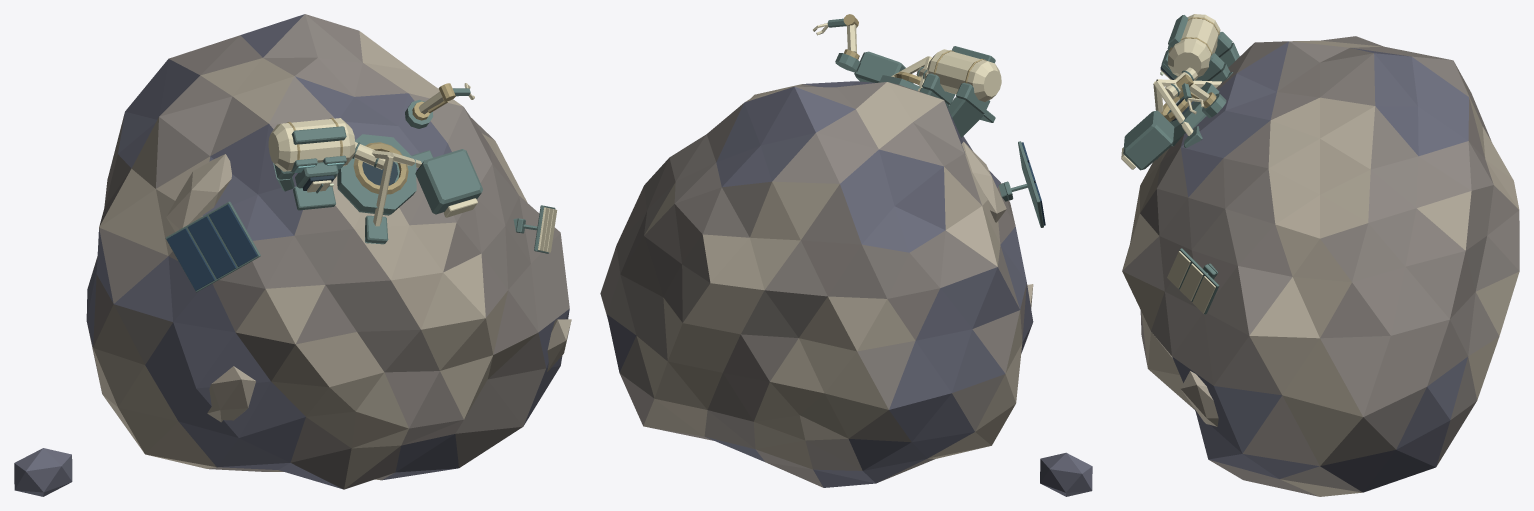
The model's file is asteroids.glb.
3 views of the same model, side by side, from view 1: azimuth 30°, elevation 25°; view 2: azimuth 150°, elevation 25°; view 3: azimuth 270°, elevation 25° (orthographic). The views are drawn at different scales.
Visible parts, largest first — view 1: S10_asteroids • modeled surfaces; view 2: S10_asteroids • modeled surfaces; view 3: S10_asteroids • modeled surfaces.
Boxes of the visible parts, x1,y1,x2,y2 form: S10_asteroids • modeled surfaces: (14,14,571,496); S10_asteroids • modeled surfaces: (600,14,1092,496); S10_asteroids • modeled surfaces: (1121,14,1519,496).
Bounding box in the file's own units: 1.9 × 1.5 × 1.34.
